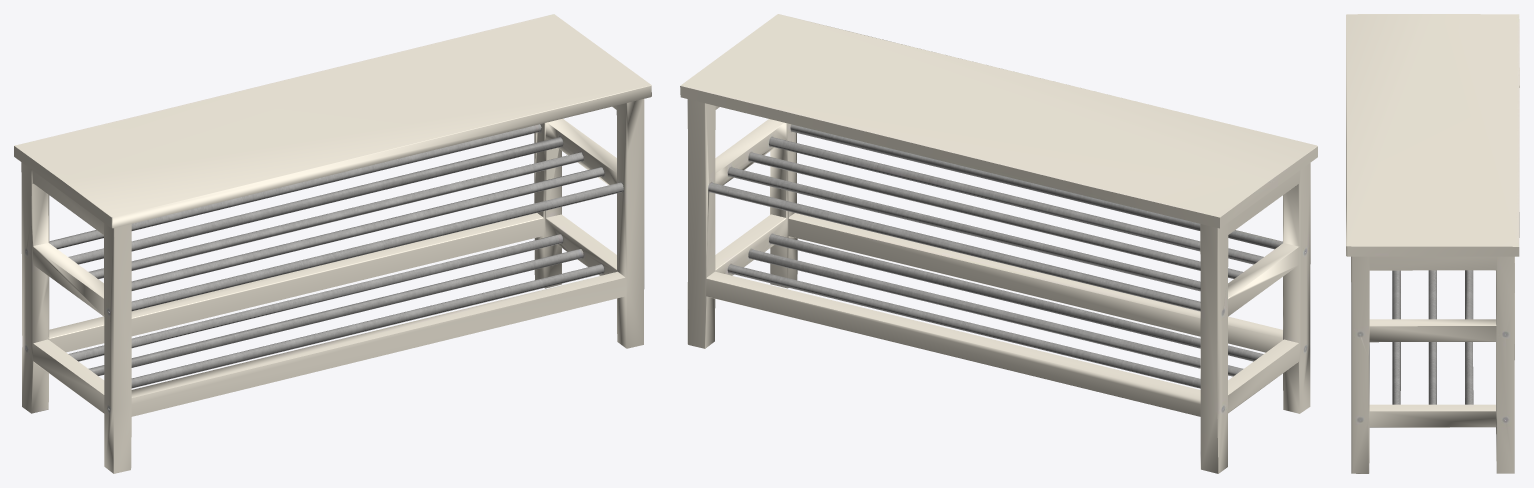
File: tjusig_awka_z_pokami_na_buty_70152702.glb
The picture shows the model from 3 angles, left to right: view 1: azimuth 30°, elevation 25°; view 2: azimuth 150°, elevation 25°; view 3: azimuth 270°, elevation 25°; orthographic projection. The views are drawn at different scales.
Parts seen in each view (by area): view 1: tjusig_awka_z_pokami_na_buty_70152702; view 2: tjusig_awka_z_pokami_na_buty_70152702; view 3: tjusig_awka_z_pokami_na_buty_70152702.
Part boxes in pixels (x1,y1,x2,y2): tjusig_awka_z_pokami_na_buty_70152702: (14, 14, 651, 473); tjusig_awka_z_pokami_na_buty_70152702: (680, 14, 1317, 473); tjusig_awka_z_pokami_na_buty_70152702: (1346, 14, 1519, 473).
Size of the model in its own units: 1.08 by 0.4974 by 0.3408.
Materials: 1 (1 with a texture image).
